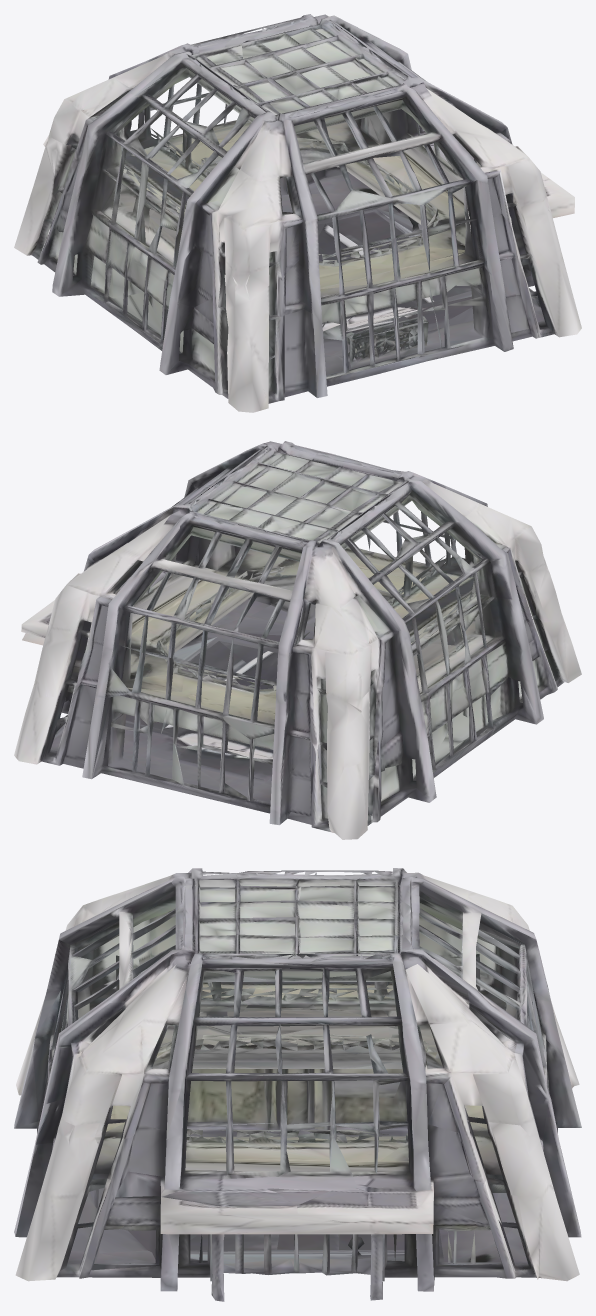
The model's file is atriumHall.glb.
3 renders of one model, top to bottom at view 1: azimuth 30°, elevation 25°; view 2: azimuth 150°, elevation 25°; view 3: azimuth 270°, elevation 25°, orthographic. The views are drawn at different scales.
Visible parts, largest first — view 1: atriumHall; view 2: atriumHall; view 3: atriumHall.
Boxes of the visible parts, x1,y1,x2,y2 form: atriumHall: (14,14,581,412); atriumHall: (14,441,581,839); atriumHall: (14,868,581,1301).
Bounding box in the file's own units: 34 × 17.75 × 34.02.
Materials: 1 (1 with a texture image).
